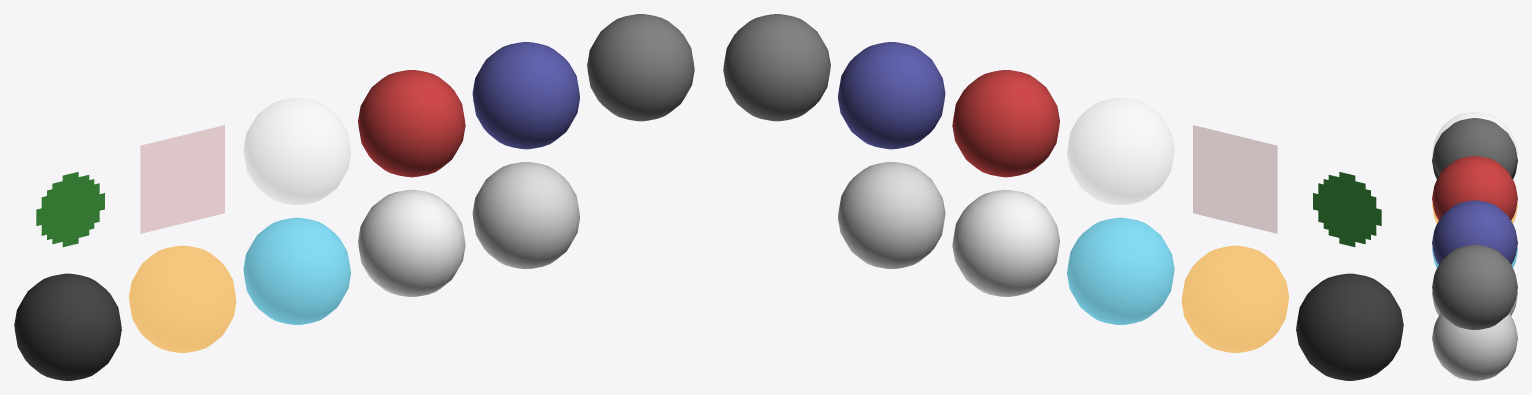
Rendered from features.gltf.
3 renders of one model, left to right at view 1: azimuth 30°, elevation 25°; view 2: azimuth 150°, elevation 25°; view 3: azimuth 270°, elevation 25°, orthographic. The views are drawn at different scales.
Bounding box in the file's own units: 12.8 × 4 × 1.8.
11 materials, 1 textured.
